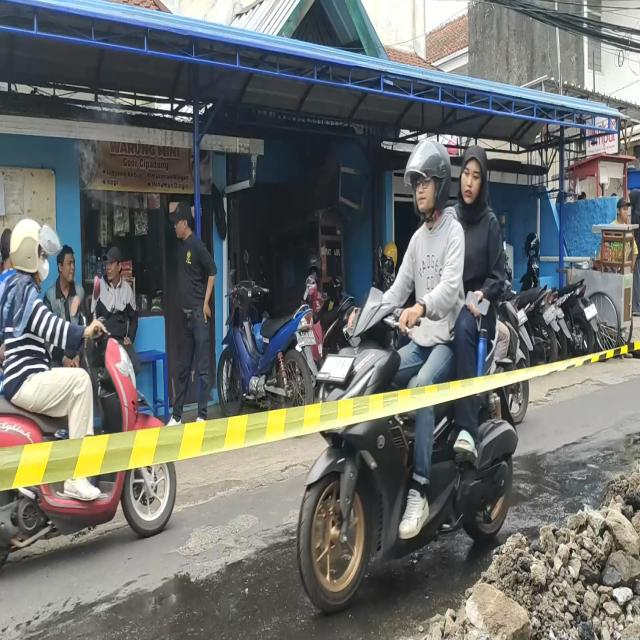helmet: (402, 141, 448, 216), (12, 221, 53, 280)
no-helmet: (460, 146, 488, 205)
